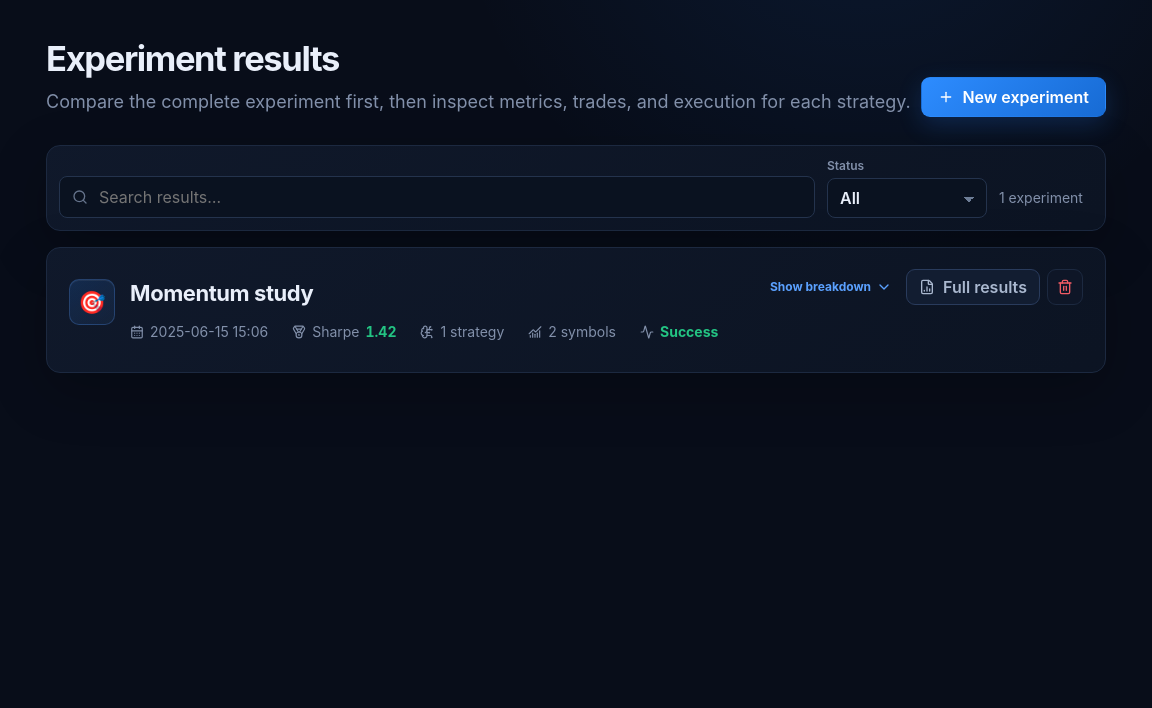
Test: results page › opens a separate detail view and returns to the experiment overview
What coordinates should you click on to do the following:
click the button with class "secondary"
I would click on:
 (973, 287)
Its box is [906,269,1040,305].
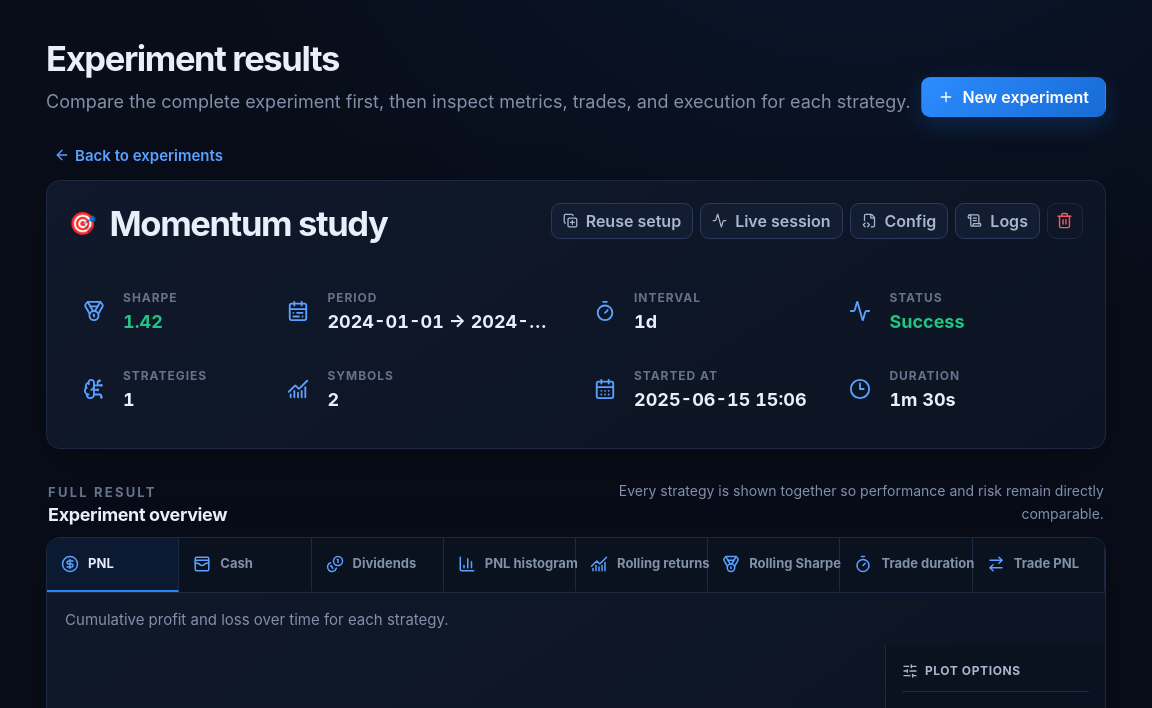
Expected: the text "Experiment overview" is shown, [48,504,227,525]
Expected: the text "Strategies" is shown, [123,368,207,383]
Expected: the element with class "result-workspace" shows "Rolling Sharpe", [708,538,840,592]
What coordinates should you click on to do the following:
click the button with class "results-back"
I would click on:
 (139, 155)
Its box is [48,145,229,166].
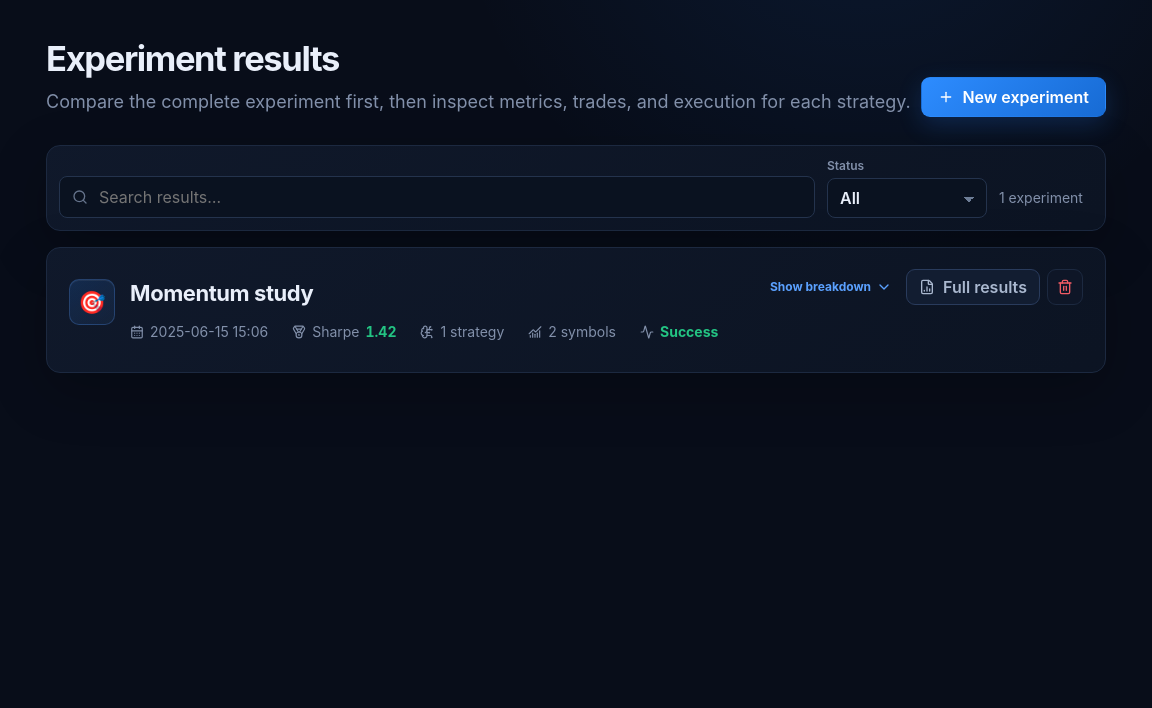
Expected: the element with class "experiment-result-card" is shown, [46,247,1106,373]
